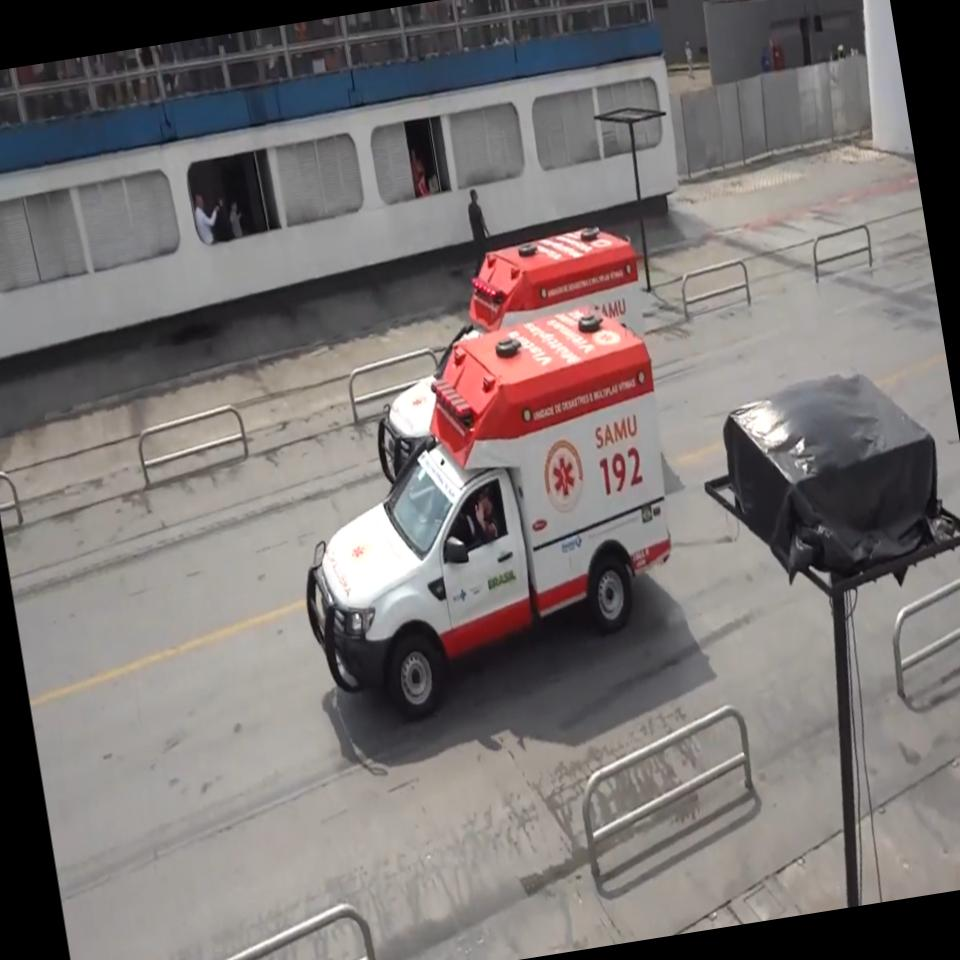bombeiro: (268, 296, 702, 732)
